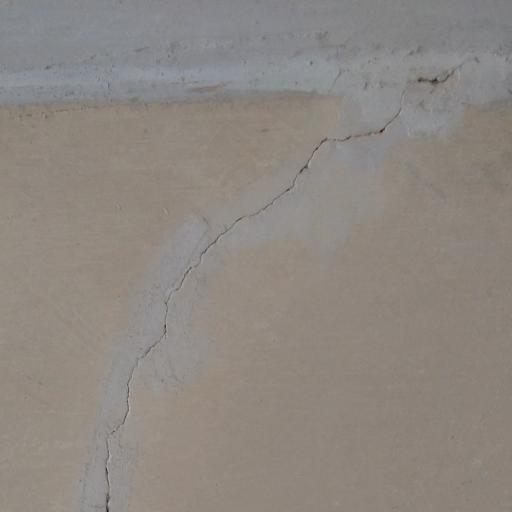minor_crack: (81, 47, 512, 512)
